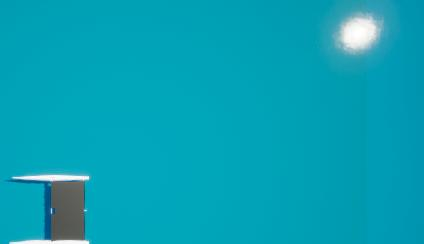boat: (7, 173, 93, 244)
drone: (51, 182, 83, 238)
land_base: (321, 3, 398, 63)
